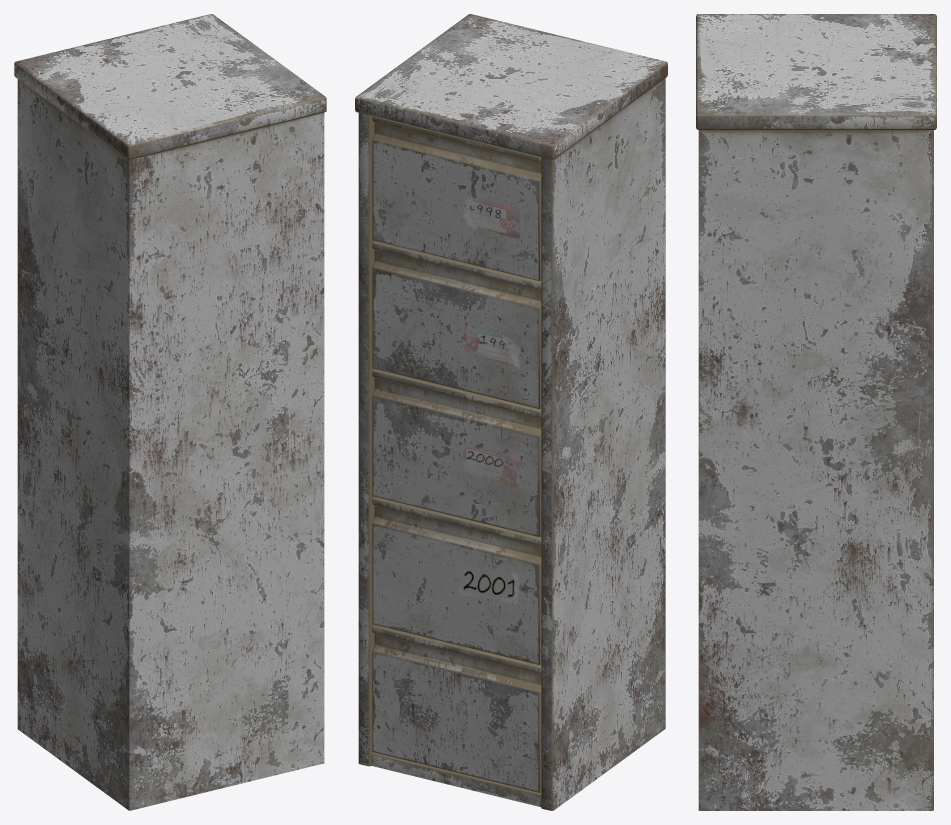
File: ящик.fbx
3 renders of one model, left to right at view 1: azimuth 30°, elevation 25°; view 2: azimuth 150°, elevation 25°; view 3: azimuth 270°, elevation 25°, orthographic. The views are drawn at different scales.
Visible parts, largest first — view 1: Куб; view 2: Куб; view 3: Куб.
Part boxes in pixels (left/top/right/bottom): Куб: left=14, top=14, right=326, bottom=810; Куб: left=355, top=14, right=667, bottom=810; Куб: left=696, top=14, right=936, bottom=810.
Bounding box in the file's own units: 204 × 653 × 205.
